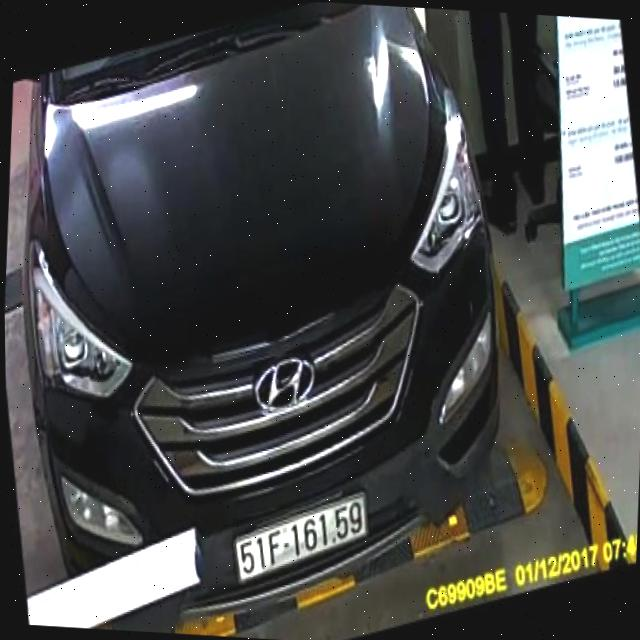car: (0, 0, 528, 639)
plate: (230, 484, 373, 591)
